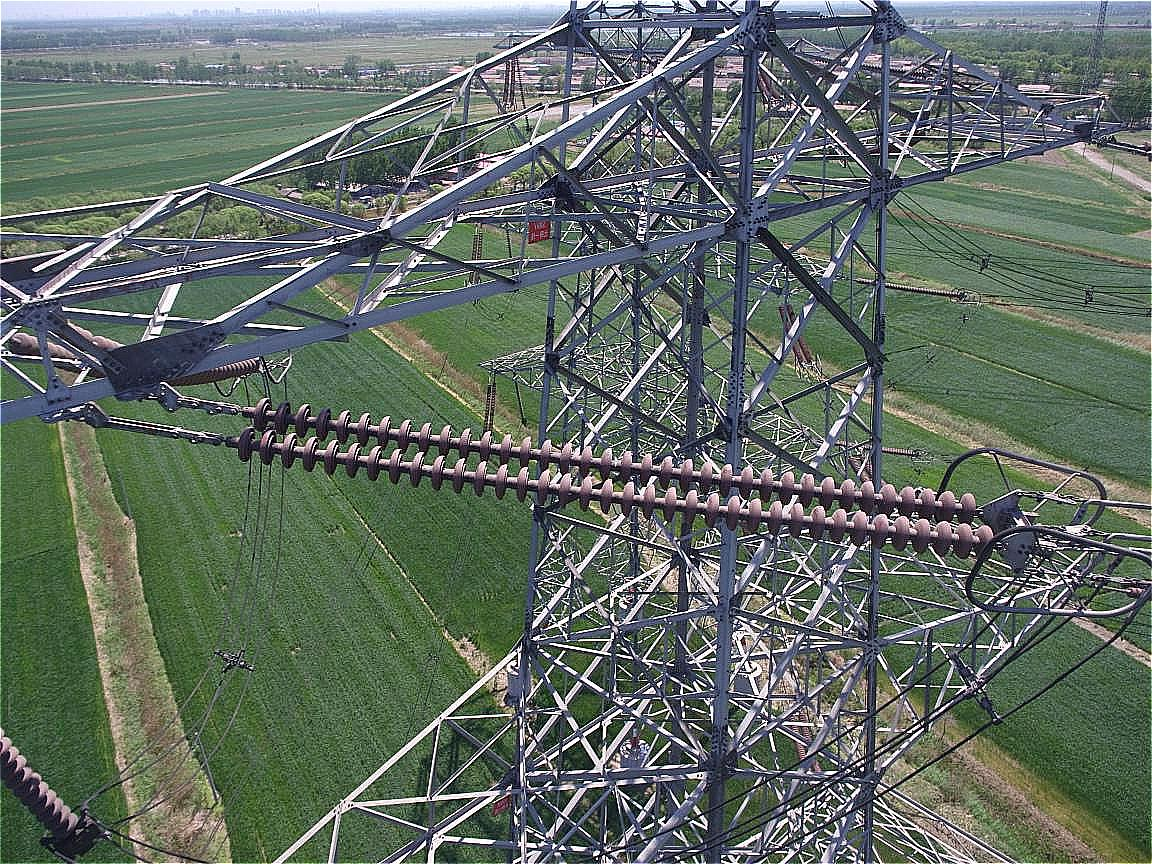insultor1: (212, 383, 1018, 564)
